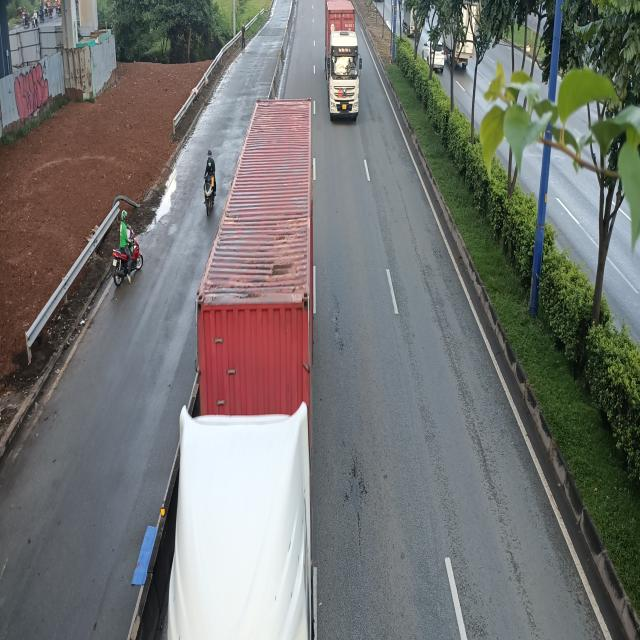container: (165, 100, 313, 634), (326, 0, 364, 124)
